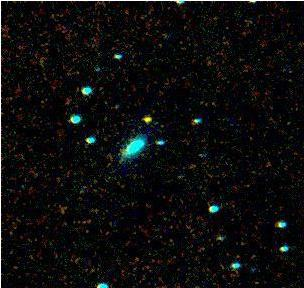star: (133, 104, 163, 134)
